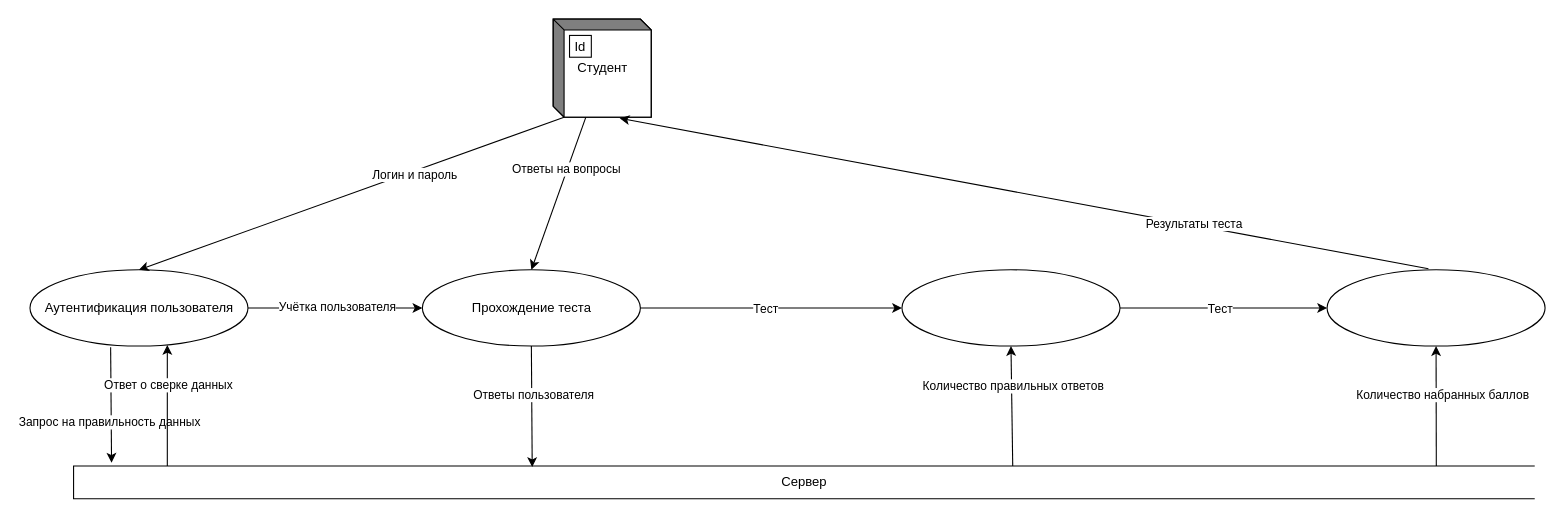
Image size: 1564x526. Some labels were removed from this diagram. Here are the shapes that lost their labels. From the top down, the centre of each, then its label:
pixel 1010 307: Обработка и анализ тестирования
pixel 1435 307: Формирование отчёта
